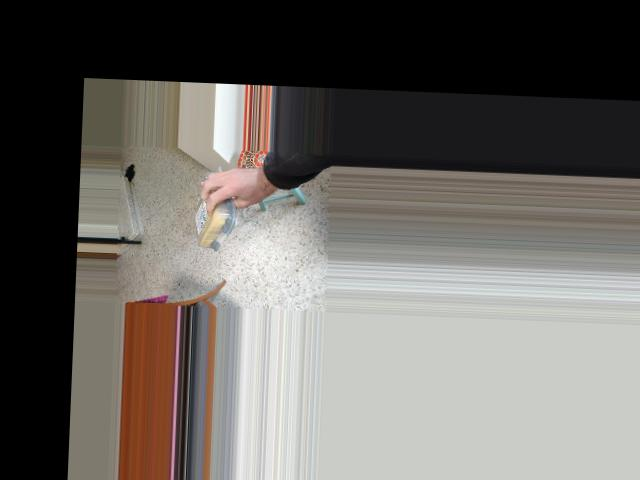cheese: (189, 176, 239, 253)
